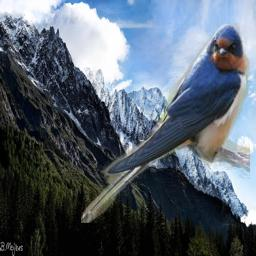Swallow: (81, 22, 250, 223)
